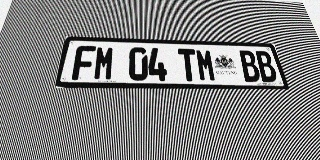0: (128, 47, 148, 81)
4: (148, 48, 167, 81)
B: (254, 51, 279, 82), (238, 50, 262, 82)
F: (71, 45, 96, 80)
M: (93, 46, 115, 80), (195, 49, 217, 81)
T: (178, 48, 199, 81)
